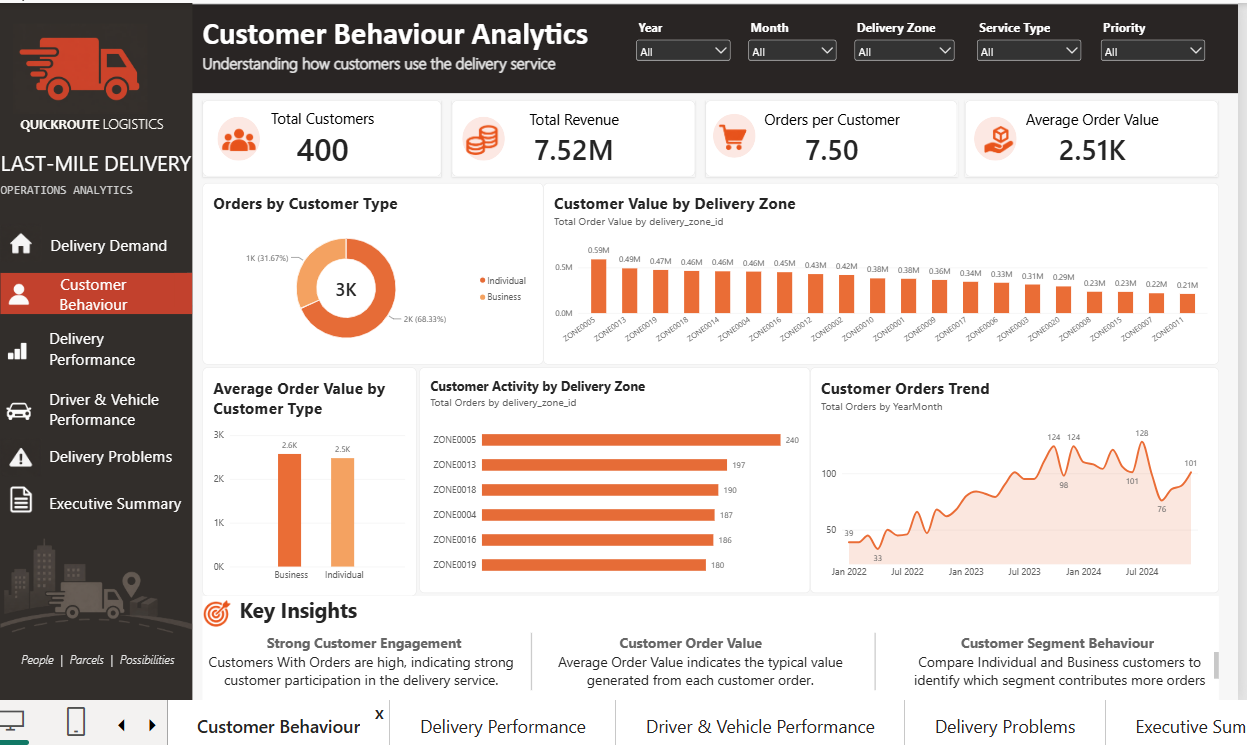

This screenshot's page, from the dashboard's own definition file:
{"tool":"powerbi","page":{"name":"Customer Behaviour","canvas":[1920,1080],"ordinal":1},"visuals":[{"type":"shape","box":[0,0,1920,140],"z":0},{"type":"textbox","box":[315.8,18.4,1604.2,122.2],"z":1000},{"type":"shape","box":[0,0,299.6,1081],"z":2000},{"type":"textbox","box":[2.3,418.2,297.1,64],"z":3000},{"type":"textbox","box":[77.7,502.8,221.7,86.8],"z":4000},{"type":"textbox","box":[77.7,596.5,221.7,70.8],"z":5000},{"type":"textbox","box":[77.7,685.6,221.7,54.8],"z":6000},{"type":"textbox","box":[77.7,758.8,221.7,45.7],"z":7000},{"type":"image","box":[2.3,595.5,297.1,484.5],"z":8000},{"type":"image","box":[2.3,32,246.8,139.4],"z":9000},{"type":"image","box":[9.1,740.5,50.3,52.6],"z":10000},{"type":"image","box":[2.3,516.5,52.6,43.4],"z":11000},{"type":"image","box":[2.3,596.5,57.1,70.8],"z":12000},{"type":"image","box":[6.9,429.7,48,41.1],"z":13000},{"type":"image","box":[0,667.3,66.3,73.1],"z":14000},{"type":"slicer","fields":{"Values":["date_table.Year"]},"box":[982.7,25.1,155.4,91.4],"z":15000},{"type":"slicer","fields":{"Values":["date_table.MonthName"]},"box":[1156.4,25.1,146.3,91.4],"z":16000},{"type":"slicer","fields":{"Values":["orders (1).delivery_zone_id"]},"box":[1321,25.1,164.5,102.8],"z":17000},{"type":"slicer","fields":{"Values":["orders (1).service_type"]},"box":[1510.7,25.1,171.4,102.8],"z":18000},{"type":"slicer","fields":{"Values":["orders (1).priority"]},"box":[1702.6,25.1,171.4,102.8],"z":19000},{"type":"textbox","box":[34.3,1003.3,246.8,61.7],"z":20000},{"type":"textbox","box":[2.3,358.8,297.1,43.4],"z":21000},{"type":"image","box":[0,340.5,68.6,61.7],"z":22000},{"type":"shape","box":[272,418.2,27.4,52.6],"z":23000},{"type":"textbox","box":[2.3,171.4,283.4,54.8],"z":24000},{"type":"textbox","box":[2.3,226.3,402.2,89.1],"z":25000},{"type":"textbox","box":[2.3,278.8,244.5,36.6],"z":26000},{"type":"cardVisual","fields":{"Data":["_Measures (2).Total Customers"]},"box":[315.4,150.8,370.2,118.8],"z":27000},{"type":"cardVisual","fields":{"Data":["_Measures (2).Total Revenue"]},"box":[701.6,150.8,377.1,118.8],"z":28000},{"type":"cardVisual","fields":{"Data":["_Measures (2).Orders per Customer"]},"box":[1094.7,150.8,390.8,118.8],"z":29000},{"type":"cardVisual","fields":{"Data":["_Measures (2).Average Order Value"]},"box":[1496.9,150.8,392,118.8],"z":30000},{"type":"shape","box":[338.2,176,66.3,68.6],"z":31000},{"type":"shape","box":[717.6,176,66.3,68.6],"z":32000},{"type":"shape","box":[1106.1,171.4,66.3,68.6],"z":33000},{"type":"shape","box":[1510.7,176,66.3,68.6],"z":34000},{"type":"image","box":[336,185.1,73.1,57.1],"z":35000},{"type":"image","box":[715.3,182.8,68.6,61.7],"z":36000},{"type":"image","box":[1510.7,185.1,77.7,59.4],"z":37000},{"type":"image","box":[1108.4,180.5,66.3,57.1],"z":38000},{"type":"donutChart","title":"Orders by Customer Type","fields":{"Category":["customers (1).customer_type"],"Y":["_Measures (2).Total Orders"]},"box":[315.4,278.8,527.9,281.1],"z":39000},{"type":"clusteredColumnChart","title":"Average Order Value by Customer Type","fields":{"Category":["customers (1).customer_type"],"Y":["_Measures (2).Average Order Value"]},"box":[315.4,564.5,331.4,354.2],"z":40000},{"type":"columnChart","title":"Customer Value by Delivery Zone","fields":{"Category":["orders (1).delivery_zone_id"],"Y":["_Measures (2).Total Order Value"]},"box":[843.3,278.8,1046.7,281.1],"z":41000},{"type":"clusteredBarChart","title":"Customer Activity by Delivery Zone","fields":{"Category":["orders (1).delivery_zone_id"],"Y":["_Measures (2).Total Orders"]},"box":[651.3,564.5,605.6,349.7],"z":42000},{"type":"lineChart","title":"Customer Orders Trend","fields":{"Category":["date_table.YearMonth"],"Y":["_Measures (2).Total Orders"]},"box":[1257,564.5,633.1,349.7],"z":43000},{"type":"shape","box":[315.4,918.7,1574.6,162.3],"z":44000},{"type":"textbox","box":[372.5,918.7,205.7,57.1],"z":45000},{"type":"image","box":[299.4,918.7,75.4,61.7],"z":46000},{"type":"textbox","box":[409.1,975.9,342.8,45.7],"z":47000},{"type":"textbox","box":[315.4,1005.6,491.4,75.4],"z":48000},{"type":"shape","box":[758.8,975.9,132.6,89.1],"z":49000},{"type":"shape","box":[1291.3,975.9,132.6,89.1],"z":50000},{"type":"textbox","box":[852.5,975.9,438.8,52.6],"z":51000},{"type":"textbox","box":[852.5,1005.6,468.5,59.4],"z":52000},{"type":"textbox","box":[1403.2,975.9,386.2,52.6],"z":53000},{"type":"textbox","box":[1403.2,1005.6,486.8,59.4],"z":54000}]}

Visuals, with their boxes on the page's 1920x1080 design canvas (x1, y1, x2, y2). These are canvas units, not pixel positions in the 1247x745 screenshot, which may show the page scaled, cropped or inside an application window:
shape: region(0, 0, 1920, 140)
textbox: region(316, 18, 1920, 141)
shape: region(0, 0, 300, 1081)
textbox: region(2, 418, 299, 482)
textbox: region(78, 503, 299, 590)
textbox: region(78, 596, 299, 667)
textbox: region(78, 686, 299, 740)
textbox: region(78, 759, 299, 804)
image: region(2, 596, 299, 1080)
image: region(2, 32, 249, 171)
image: region(9, 740, 59, 793)
image: region(2, 516, 55, 560)
image: region(2, 596, 59, 667)
image: region(7, 430, 55, 471)
image: region(0, 667, 66, 740)
slicer - date_table.Year: region(983, 25, 1138, 116)
slicer - date_table.MonthName: region(1156, 25, 1303, 116)
slicer - orders (1).delivery_zone_id: region(1321, 25, 1486, 128)
slicer - orders (1).service_type: region(1511, 25, 1682, 128)
slicer - orders (1).priority: region(1703, 25, 1874, 128)
textbox: region(34, 1003, 281, 1065)
textbox: region(2, 359, 299, 402)
image: region(0, 340, 69, 402)
shape: region(272, 418, 299, 471)
textbox: region(2, 171, 286, 226)
textbox: region(2, 226, 404, 315)
textbox: region(2, 279, 247, 315)
cardVisual - _Measures (2).Total Customers: region(315, 151, 686, 270)
cardVisual - _Measures (2).Total Revenue: region(702, 151, 1079, 270)
cardVisual - _Measures (2).Orders per Customer: region(1095, 151, 1486, 270)
cardVisual - _Measures (2).Average Order Value: region(1497, 151, 1889, 270)
shape: region(338, 176, 404, 245)
shape: region(718, 176, 784, 245)
shape: region(1106, 171, 1172, 240)
shape: region(1511, 176, 1577, 245)
image: region(336, 185, 409, 242)
image: region(715, 183, 784, 244)
image: region(1511, 185, 1588, 244)
image: region(1108, 180, 1175, 238)
"Orders by Customer Type" donutChart: region(315, 279, 843, 560)
"Average Order Value by Customer Type" clusteredColumnChart: region(315, 564, 647, 919)
"Customer Value by Delivery Zone" columnChart: region(843, 279, 1890, 560)
"Customer Activity by Delivery Zone" clusteredBarChart: region(651, 564, 1257, 914)
"Customer Orders Trend" lineChart: region(1257, 564, 1890, 914)
shape: region(315, 919, 1890, 1081)
textbox: region(372, 919, 578, 976)
image: region(299, 919, 375, 980)
textbox: region(409, 976, 752, 1022)
textbox: region(315, 1006, 807, 1081)
shape: region(759, 976, 891, 1065)
shape: region(1291, 976, 1424, 1065)
textbox: region(852, 976, 1291, 1028)
textbox: region(852, 1006, 1321, 1065)
textbox: region(1403, 976, 1789, 1028)
textbox: region(1403, 1006, 1890, 1065)
